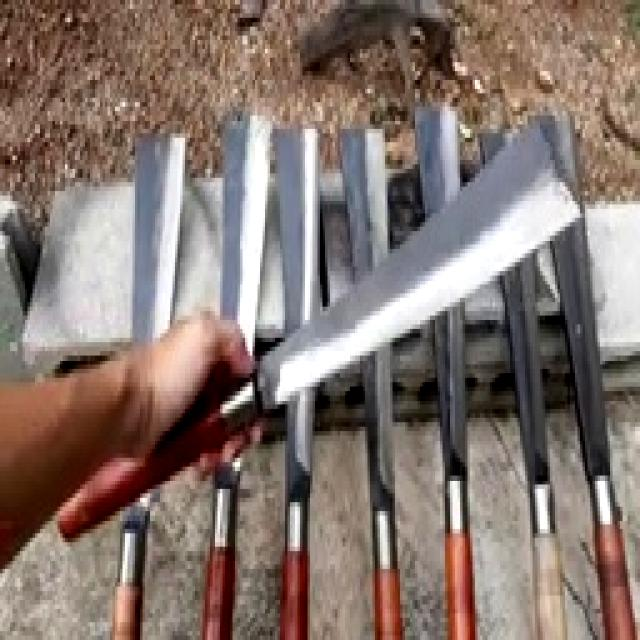eto: (214, 110, 273, 640)
